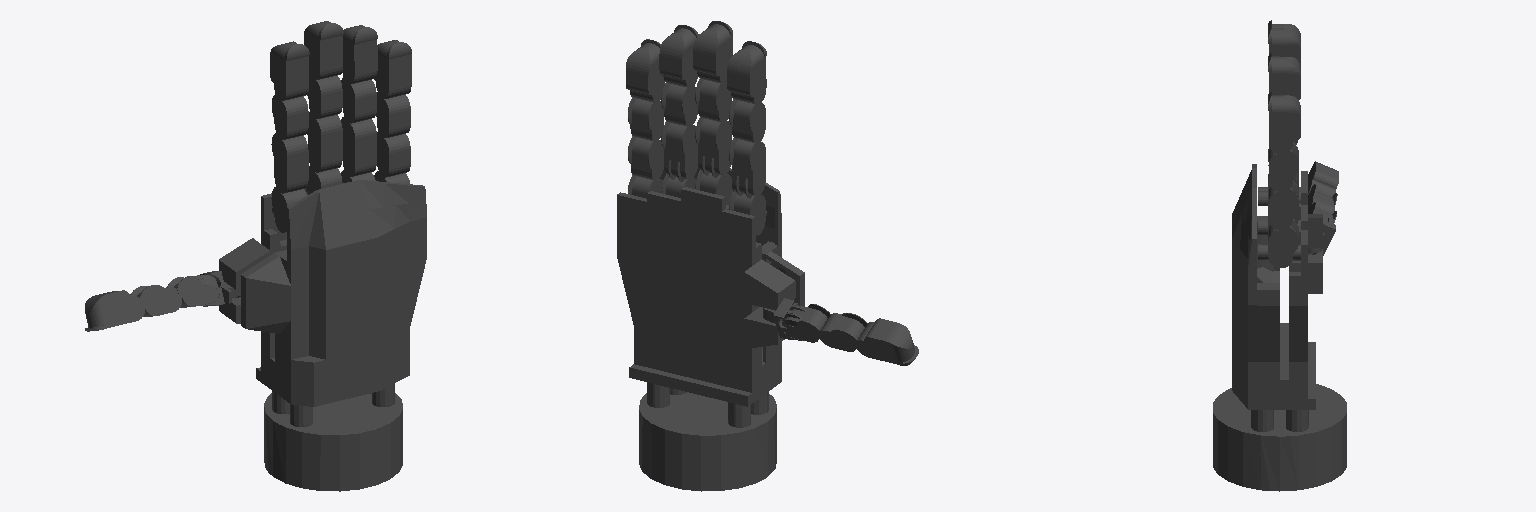
--- Render facts (derived) ---
Views: 3 orthographic renders of the robot side by side, from view 1: azimuth 30°, elevation 25°; view 2: azimuth 150°, elevation 25°; view 3: azimuth 270°, elevation 25°.
Model qbhand with 38 links and 37 joints (34 revolute, 3 fixed), rooted at root_link, posed every joint at zero.
Links seen in each view (by area): view 1: qbhand_palm_link, qbhand_base_link, qbhand_index_distal_link, qbhand_middle_distal_link, qbhand_ring_distal_link, qbhand_little_distal_link, qbhand_thumb_distal_link, qbhand_index_proximal_link, qbhand_middle_proximal_link, qbhand_ring_proximal_link, qbhand_thumb_knuckle_link, qbhand_index_middle_link (+7 smaller); view 2: qbhand_palm_link, qbhand_base_link, qbhand_thumb_distal_link, qbhand_index_distal_link, qbhand_middle_distal_link, qbhand_thumb_knuckle_link, qbhand_ring_distal_link, qbhand_little_distal_link, qbhand_index_proximal_link, qbhand_ring_proximal_link, qbhand_middle_proximal_link, qbhand_thumb_proximal_link (+8 smaller); view 3: qbhand_palm_link, qbhand_base_link, qbhand_little_distal_link, qbhand_little_knuckle_link, qbhand_ring_distal_link, qbhand_little_proximal_link, qbhand_little_middle_link, qbhand_middle_distal_link, qbhand_thumb_distal_link, qbhand_thumb_knuckle_link.
Link boxes in pixels (x1,y1,x2,y2): qbhand_palm_link: (219,180,426,406); qbhand_base_link: (264,383,402,491); qbhand_index_distal_link: (270,41,309,100); qbhand_middle_distal_link: (304,21,343,79); qbhand_ring_distal_link: (342,25,377,84); qbhand_little_distal_link: (374,40,411,98); qbhand_thumb_distal_link: (85,290,144,331); qbhand_index_proximal_link: (271,133,308,193); qbhand_middle_proximal_link: (307,112,342,172); qbhand_ring_proximal_link: (341,116,376,176); qbhand_thumb_knuckle_link: (167,271,240,307); qbhand_index_middle_link: (272,94,308,139); qbhand_palm_link: (617,167,804,406); qbhand_base_link: (639,382,776,491); qbhand_thumb_distal_link: (855,318,918,365); qbhand_index_distal_link: (727,41,766,104); qbhand_middle_distal_link: (693,21,732,83); qbhand_thumb_knuckle_link: (763,298,830,342); qbhand_ring_distal_link: (659,25,698,87); qbhand_little_distal_link: (626,39,664,102); qbhand_index_proximal_link: (729,138,765,198); qbhand_ring_proximal_link: (661,121,697,181); qbhand_middle_proximal_link: (695,117,731,177); qbhand_thumb_proximal_link: (818,313,867,351); qbhand_palm_link: (1232,164,1322,409); qbhand_base_link: (1213,384,1346,491); qbhand_little_distal_link: (1268,92,1300,153); qbhand_little_knuckle_link: (1258,219,1300,267); qbhand_ring_distal_link: (1268,53,1300,99); qbhand_little_proximal_link: (1268,181,1298,229); qbhand_little_middle_link: (1269,143,1298,191); qbhand_middle_distal_link: (1268,25,1300,65); qbhand_thumb_distal_link: (1308,161,1338,196); qbhand_thumb_knuckle_link: (1308,202,1336,255).
Size in the robot's own frame: 0.1798 by 0.0703 by 0.2488 metres.
21 mesh visuals loaded from 7 distinct referenced files (7 binary STL).

robot.urdf — qbhand:
<?xml version="1.0" ?>
<!-- =================================================================================== -->
<!-- |    This document was autogenerated by xacro from qbhand.urdf.xacro              | -->
<!-- |    EDITING THIS FILE BY HAND IS NOT RECOMMENDED                                 | -->
<!-- =================================================================================== -->
<robot name="qbhand">
   <mujoco>
        <compiler
        meshdir="../meshes/qbhand"
        balanceinertia="true"
        discardvisual="false" />
   </mujoco>
  <material name="qbhand/optional">
    <color rgba="0.0 0.5 0.8 1.0"/>
  </material>
  <material name="qbhand/base">
    <color rgba="0.35 0.35 0.35 1.0"/>
  </material>
  <material name="qbhand/palm">
    <color rgba="0.35 0.35 0.35 1.0"/>
  </material>
  <material name="qbhand/knuckle">
    <color rgba="0.35 0.35 0.35 1.0"/>
  </material>
  <material name="qbhand/proximal">
    <color rgba="0.35 0.35 0.35 1.0"/>
  </material>
  <material name="qbhand/middle">
    <color rgba="0.35 0.35 0.35 1.0"/>
  </material>
  <material name="qbhand/distal">
    <color rgba="0.35 0.35 0.35 1.0"/>
  </material>
  <material name="qbhand/default">
    <color rgba="0.35 0.35 0.35 1.0"/>
  </material>
  <link name="root_link"/>
  <joint name="qbhand_base_fixed_joint" type="fixed">
    <origin rpy="0 0 0" xyz="0 0 0"/>
    <parent link="root_link"/>
    <child link="qbhand_base_link"/>
  </joint>
  <link name="qbhand_base_link">
    <inertial>
      <mass value="0.45"/>
      <origin rpy="0 0 0" xyz="0.0030 -0.0449 0.0135"/>
      <inertia ixx="0.00045" ixy="0.0" ixz="0.0" iyy="0.0006" iyz="0.0" izz="0.00025"/>
    </inertial>
    <visual>
      <origin rpy="0 0 0" xyz="0 0 0"/>
      <geometry>
        <mesh filename="../meshes/qbhand/flange_iso_04.stl" scale="0.001 0.001 0.001"/>
      </geometry>
      <material name="qbhand/base"/>
    </visual>
    <collision>
      <origin rpy="0 0 0" xyz="0 0 0"/>
      <geometry>
        <mesh filename="../meshes/qbhand/flange_iso_04.stl" scale="0.001 0.001 0.001"/>
      </geometry>
    </collision>
  </link>
  <joint name="qbhand_palm_fixed_joint" type="fixed">
    <origin rpy="1.57 0 0" xyz="-0.0045 0.0145 0.144"/>
    <parent link="qbhand_base_link"/>
    <child link="qbhand_palm_link"/>
  </joint>
  <link name="qbhand_palm_link">
    <inertial>
      <mass value="0.45"/>
      <origin rpy="0 0 0" xyz="0.0030 -0.0449 0.0135"/>
      <inertia ixx="0.00045" ixy="0.0" ixz="0.0" iyy="0.0006" iyz="0.0" izz="0.00025"/>
    </inertial>
    <visual>
      <origin rpy="0 0 0" xyz="0 0 0"/>
      <geometry>
        <mesh filename="../meshes/qbhand/palm_pinch_r.stl" scale="0.001 0.001 0.001"/>
      </geometry>
      <material name="qbhand/palm"/>
    </visual>
    <collision>
      <origin rpy="0 0 0" xyz="0 0 0"/>
      <geometry>
        <mesh filename="../meshes/qbhand/palm_pinch_r.stl" scale="0.001 0.001 0.001"/>
      </geometry>
    </collision>
  </link>
  <joint name="qbhand_synergy_joint" type="revolute">
    <origin rpy="0 0 0" xyz="0 0 0"/>
    <parent link="qbhand_palm_link"/>
    <child link="qbhand_synergy_tendon_virtual_link"/>
    <axis xyz="0 0 1"/>
    <dynamics damping="0.0" friction="0.0"/>
    <limit effort="100" lower="0.0" upper="1.0" velocity="100"/>
  </joint>
  <transmission name="qbhand_synergy_transmission">
    <type>transmission_interface/qbMoveTransmission</type>
    <joint name="qbhand_synergy_joint">
      <hardwareInterface>hardware_interface/EffortJointInterface</hardwareInterface>
    </joint>
    <actuator name="qbhand_synergy_joint">
      <hardwareInterface>hardware_interface/EffortJointInterface</hardwareInterface>
    </actuator>
  </transmission>
  <link name="qbhand_synergy_tendon_virtual_link">
    <inertial>
      <origin rpy="0 0 0" xyz="0 0 0"/>
      <mass value="1e-4"/>
      <inertia ixx="1e-9" ixy="0.0" ixz="0.0" iyy="1e-9" iyz="0.0" izz="1e-9"/>
    </inertial>
  </link>
  <joint name="qbhand_thumb_knuckle_joint" type="revolute">
    <origin rpy="-1.57 3.14 0.0" xyz="-0.044 -0.0465 -0.002"/>
    <parent link="qbhand_palm_link"/>
    <child link="qbhand_thumb_knuckle_link"/>
    <axis xyz="0 0 -1"/>
    <dynamics damping="0.0" friction="0.0"/>
    <limit effort="100" lower="0.0" upper="1.571" velocity="100"/>
    <mimic joint="qbhand_synergy_joint" multiplier="2.542"/>
  </joint>
  <link name="qbhand_thumb_knuckle_link">
    <inertial>
      <mass value="0.01"/>
      <origin rpy="0 0 0" xyz="1.3071561e-02 -2.7357764e-03 6.4347823e-04"/>
      <inertia ixx="3.5865978e-07" ixy="2.0944224e-07" ixz="-6.8657569e-08" iyy="1.3885564e-06" iyz="3.2170608e-08" izz="1.3571203e-06"/>
    </inertial>
    <visual>
      <origin rpy="0 0 0" xyz="0 0 0"/>
      <geometry>
        <mesh filename="../meshes/qbhand/ph_thumb_r.stl" scale="0.001 0.001 0.001"/>
      </geometry>
      <material name="qbhand/knuckle"/>
    </visual>
    <collision>
      <origin rpy="0 0 0" xyz="0 0 0"/>
      <geometry>
        <mesh filename="../meshes/qbhand/ph_thumb_r_collision.stl" scale="0.001 0.001 0.001"/>
      </geometry>
    </collision>
  </link>
  <joint name="qbhand_thumb_proximal_joint" type="revolute">
    <origin rpy="-1.1415 0.0 0.0" xyz="0.0255 -0.0038 -0.00012"/>
    <parent link="qbhand_thumb_knuckle_link"/>
    <child link="qbhand_thumb_proximal_virtual_link"/>
    <axis xyz="0 0 -1"/>
    <dynamics damping="0.0" friction="0.0"/>
    <limit effort="100" lower="0.0" upper="0.785" velocity="100"/>
    <mimic joint="qbhand_synergy_joint" multiplier="0.785"/>
  </joint>
  <link name="qbhand_thumb_proximal_virtual_link">
    <inertial>
      <origin rpy="0 0 0" xyz="0 0 0"/>
      <mass value="1e-4"/>
      <inertia ixx="1e-9" ixy="0.0" ixz="0.0" iyy="1e-9" iyz="0.0" izz="1e-9"/>
    </inertial>
  </link>
  <joint name="qbhand_thumb_proximal_virtual_joint" type="revolute">
    <origin rpy="0 0 0" xyz="0.013 0 0"/>
    <parent link="qbhand_thumb_proximal_virtual_link"/>
    <child link="qbhand_thumb_proximal_link"/>
    <axis xyz="0 0 -1"/>
    <dynamics damping="0.0" friction="0.0"/>
    <limit effort="100" lower="0.0" upper="0.785" velocity="100"/>
    <mimic joint="qbhand_thumb_proximal_joint" multiplier="1.0"/>
  </joint>
  <link name="qbhand_thumb_proximal_link">
    <inertial>
      <mass value="0.0063"/>
      <origin rpy="0 0 0" xyz="4.7601567e-03 -1.3786947e-03 0.0"/>
      <inertia ixx="1.8024201e-07" ixy="5.756798e-09" ixz="0.0" iyy="2.3516266e-07" iyz="0.0" izz="2.691504e-07"/>
    </inertial>
    <visual>
      <origin rpy="0 0 0" xyz="0 0 0"/>
      <geometry>
        <mesh filename="../meshes/qbhand/ph_short.stl" scale="0.001 0.001 0.001"/>
      </geometry>
      <material name="qbhand/proximal"/>
    </visual>
    <collision>
      <origin rpy="0 0 0" xyz="0 0 0"/>
      <geometry>
        <mesh filename="../meshes/qbhand/ph_short_collision.stl" scale="0.001 0.001 0.001"/>
      </geometry>
    </collision>
  </link>
  <joint name="qbhand_thumb_distal_joint" type="revolute">
    <origin rpy="0 0 0" xyz="0.009 0 0"/>
    <parent link="qbhand_thumb_proximal_link"/>
    <child link="qbhand_thumb_distal_virtual_link"/>
    <axis xyz="0 0 -1"/>
    <dynamics damping="0.0" friction="0.0"/>
    <limit effort="100" lower="0.0" upper="0.785" velocity="100"/>
    <mimic joint="qbhand_synergy_joint" multiplier="0.785"/>
  </joint>
  <link name="qbhand_thumb_distal_virtual_link">
    <inertial>
      <origin rpy="0 0 0" xyz="0 0 0"/>
      <mass value="1e-4"/>
      <inertia ixx="1e-9" ixy="0.0" ixz="0.0" iyy="1e-9" iyz="0.0" izz="1e-9"/>
    </inertial>
  </link>
  <joint name="qbhand_thumb_distal_virtual_joint" type="revolute">
    <origin rpy="0 0 0" xyz="0.013 0 0"/>
    <parent link="qbhand_thumb_distal_virtual_link"/>
    <child link="qbhand_thumb_distal_link"/>
    <axis xyz="0 0 -1"/>
    <dynamics damping="0.0" friction="0.0"/>
    <limit effort="100" lower="0.0" upper="0.785" velocity="100"/>
    <mimic joint="qbhand_thumb_distal_joint" multiplier="1.0"/>
  </joint>
  <link name="qbhand_thumb_distal_link">
    <inertial>
      <mass value="0.009"/>
      <origin rpy="0 0 0" xyz="8.8025467e-03 -1.7219289e-03 0.0"/>
      <inertia ixx="2.6586142e-07" ixy="1.2416847e-08" ixz="0.0" iyy="5.9935767e-07" iyz="0.0" izz="6.6781963e-07"/>
    </inertial>
    <visual>
      <origin rpy="0 0 0" xyz="0 0 0"/>
      <geometry>
        <mesh filename="../meshes/qbhand/ph_distal.stl" scale="0.001 0.001 0.001"/>
      </geometry>
      <material name="qbhand/distal"/>
    </visual>
    <collision>
      <origin rpy="0 0 0" xyz="0 0 0"/>
      <geometry>
        <mesh filename="../meshes/qbhand/ph_distal_collision.stl" scale="0.001 0.001 0.001"/>
      </geometry>
    </collision>
  </link>
  <joint name="qbhand_index_knuckle_joint" type="revolute">
    <origin rpy="0 0 1.57" xyz="-0.02 -0.007 0.014"/>
    <parent link="qbhand_palm_link"/>
    <child link="qbhand_index_knuckle_link"/>
    <axis xyz="0 0 -1"/>
    <dynamics damping="0.0" friction="0.0"/>
    <limit effort="100" lower="-0.524" upper="0.524" velocity="100"/>
    <mimic joint="qbhand_synergy_joint" multiplier="-0.2"/>
  </joint>
  <link name="qbhand_index_knuckle_link">
    <inertial>
      <mass value="0.0095"/>
      <origin rpy="0 0 0" xyz="4.2753603e-04  0.0 -1.4321738e-03"/>
      <inertia ixx="6.4337303e-07" ixy="0.0" ixz="-3.9373913e-08" iyy="1.1253771e-06" iyz="0.0" izz="7.2336948e-07"/>
    </inertial>
    <visual>
      <origin rpy="0 0 0" xyz="0 0 0"/>
      <geometry>
        <mesh filename="../meshes/qbhand/ph_knuckle.stl" scale="0.001 0.001 0.001"/>
      </geometry>
      <material name="qbhand/knuckle"/>
    </visual>
    <collision>
      <origin rpy="0 0 0" xyz="0 0 0"/>
      <geometry>
        <mesh filename="../meshes/qbhand/ph_knuckle_collision.stl" scale="0.001 0.001 0.001"/>
      </geometry>
    </collision>
  </link>
  <joint name="qbhand_index_proximal_joint" type="revolute">
    <origin rpy="1.57 0 0" xyz="0.009 0 0"/>
    <parent link="qbhand_index_knuckle_link"/>
    <child link="qbhand_index_proximal_virtual_link"/>
    <axis xyz="0 0 -1"/>
    <dynamics damping="0.0" friction="0.0"/>
    <limit effort="100" lower="0.0" upper="0.785" velocity="100"/>
    <mimic joint="qbhand_synergy_joint" multiplier="0.785"/>
  </joint>
  <link name="qbhand_index_proximal_virtual_link">
    <inertial>
      <origin rpy="0 0 0" xyz="0 0 0"/>
      <mass value="1e-4"/>
      <inertia ixx="1e-9" ixy="0.0" ixz="0.0" iyy="1e-9" iyz="0.0" izz="1e-9"/>
    </inertial>
  </link>
  <joint name="qbhand_index_proximal_virtual_joint" type="revolute">
    <origin rpy="0 0 0" xyz="0.013 0 0"/>
    <parent link="qbhand_index_proximal_virtual_link"/>
    <child link="qbhand_index_proximal_link"/>
    <axis xyz="0 0 -1"/>
    <dynamics damping="0.0" friction="0.0"/>
    <limit effort="100" lower="0.0" upper="0.785" velocity="100"/>
    <mimic joint="qbhand_index_proximal_joint" multiplier="1.0"/>
  </joint>
  <link name="qbhand_index_proximal_link">
    <inertial>
      <mass value="0.0082"/>
      <origin rpy="0 0 0" xyz="8.7707437e-03 -1.7863138e-03 0.0"/>
      <inertia ixx="2.2722068e-07" ixy="1.1586053e-08" ixz="0.0" iyy="5.5947233e-07" iyz="0.0" izz="5.9562195e-07"/>
    </inertial>
    <visual>
      <origin rpy="0 0 0" xyz="0 0 0"/>
      <geometry>
        <mesh filename="../meshes/qbhand/ph_medium.stl" scale="0.001 0.001 0.001"/>
      </geometry>
      <material name="qbhand/proximal"/>
    </visual>
    <collision>
      <origin rpy="0 0 0" xyz="0 0 0"/>
      <geometry>
        <mesh filename="../meshes/qbhand/ph_medium_collision.stl" scale="0.001 0.001 0.001"/>
      </geometry>
    </collision>
  </link>
  <joint name="qbhand_index_middle_joint" type="revolute">
    <origin rpy="0 0 0" xyz="0.017 0 0"/>
    <parent link="qbhand_index_proximal_link"/>
    <child link="qbhand_index_middle_virtual_link"/>
    <axis xyz="0 0 -1"/>
    <dynamics damping="0.0" friction="0.0"/>
    <limit effort="100" lower="0.0" upper="0.785" velocity="100"/>
    <mimic joint="qbhand_synergy_joint" multiplier="0.785"/>
  </joint>
  <link name="qbhand_index_middle_virtual_link">
    <inertial>
      <origin rpy="0 0 0" xyz="0 0 0"/>
      <mass value="1e-4"/>
      <inertia ixx="1e-9" ixy="0.0" ixz="0.0" iyy="1e-9" iyz="0.0" izz="1e-9"/>
    </inertial>
  </link>
  <joint name="qbhand_index_middle_virtual_joint" type="revolute">
    <origin rpy="0 0 0" xyz="0.013 0 0"/>
    <parent link="qbhand_index_middle_virtual_link"/>
    <child link="qbhand_index_middle_link"/>
    <axis xyz="0 0 -1"/>
    <dynamics damping="0.0" friction="0.0"/>
    <limit effort="100" lower="0.0" upper="0.785" velocity="100"/>
    <mimic joint="qbhand_index_middle_joint" multiplier="1.0"/>
  </joint>
  <link name="qbhand_index_middle_link">
    <inertial>
      <mass value="0.0063"/>
      <origin rpy="0 0 0" xyz="4.7601567e-03 -1.3786947e-03 0.0"/>
      <inertia ixx="1.8024201e-07" ixy="5.756798e-09" ixz="0.0" iyy="2.3516266e-07" iyz="0.0" izz="2.691504e-07"/>
    </inertial>
    <visual>
      <origin rpy="0 0 0" xyz="0 0 0"/>
      <geometry>
        <mesh filename="../meshes/qbhand/ph_short.stl" scale="0.001 0.001 0.001"/>
      </geometry>
      <material name="qbhand/middle"/>
    </visual>
    <collision>
      <origin rpy="0 0 0" xyz="0 0 0"/>
      <geometry>
        <mesh filename="../meshes/qbhand/ph_short_collision.stl" scale="0.001 0.001 0.001"/>
      </geometry>
    </collision>
  </link>
  <joint name="qbhand_index_distal_joint" type="revolute">
    <origin rpy="0 0 0" xyz="0.009 0 0"/>
    <parent link="qbhand_index_middle_link"/>
    <child link="qbhand_index_distal_virtual_link"/>
    <axis xyz="0 0 -1"/>
    <dynamics damping="0.0" friction="0.0"/>
    <limit effort="100" lower="0.0" upper="0.785" velocity="100"/>
    <mimic joint="qbhand_synergy_joint" multiplier="0.785"/>
  </joint>
  <link name="qbhand_index_distal_virtual_link">
    <inertial>
      <origin rpy="0 0 0" xyz="0 0 0"/>
      <mass value="1e-4"/>
      <inertia ixx="1e-9" ixy="0.0" ixz="0.0" iyy="1e-9" iyz="0.0" izz="1e-9"/>
    </inertial>
  </link>
  <joint name="qbhand_index_distal_virtual_joint" type="revolute">
    <origin rpy="0 0 0" xyz="0.013 0 0"/>
    <parent link="qbhand_index_distal_virtual_link"/>
    <child link="qbhand_index_distal_link"/>
    <axis xyz="0 0 -1"/>
    <dynamics damping="0.0" friction="0.0"/>
    <limit effort="100" lower="0.0" upper="0.785" velocity="100"/>
    <mimic joint="qbhand_index_distal_joint" multiplier="1.0"/>
  </joint>
  <link name="qbhand_index_distal_link">
    <inertial>
      <mass value="0.009"/>
      <origin rpy="0 0 0" xyz="8.8025467e-03 -1.7219289e-03 0.0"/>
      <inertia ixx="2.6586142e-07" ixy="1.2416847e-08" ixz="0.0" iyy="5.9935767e-07" iyz="0.0" izz="6.6781963e-07"/>
    </inertial>
    <visual>
      <origin rpy="0 0 0" xyz="0 0 0"/>
      <geometry>
        <mesh filename="../meshes/qbhand/ph_distal.stl" scale="0.001 0.001 0.001"/>
      </geometry>
      <material name="qbhand/distal"/>
    </visual>
    <collision>
      <origin rpy="0 0 0" xyz="0 0 0"/>
      <geometry>
        <mesh filename="../meshes/qbhand/ph_distal_collision.stl" scale="0.001 0.001 0.001"/>
      </geometry>
    </collision>
  </link>
  <joint name="qbhand_middle_knuckle_joint" type="revolute">
    <origin rpy="0 0 1.57" xyz="0 0 0.014"/>
    <parent link="qbhand_palm_link"/>
    <child link="qbhand_middle_knuckle_link"/>
    <axis xyz="0 0 -1"/>
    <dynamics damping="0.0" friction="0.0"/>
    <limit effort="100" lower="-0.524" upper="0.524" velocity="100"/>
    <mimic joint="qbhand_synergy_joint" multiplier="0.0"/>
  </joint>
  <link name="qbhand_middle_knuckle_link">
    <inertial>
      <mass value="0.0095"/>
      <origin rpy="0 0 0" xyz="4.2753603e-04  0.0 -1.4321738e-03"/>
      <inertia ixx="6.4337303e-07" ixy="0.0" ixz="-3.9373913e-08" iyy="1.1253771e-06" iyz="0.0" izz="7.2336948e-07"/>
    </inertial>
    <visual>
      <origin rpy="0 0 0" xyz="0 0 0"/>
      <geometry>
        <mesh filename="../meshes/qbhand/ph_knuckle.stl" scale="0.001 0.001 0.001"/>
      </geometry>
      <material name="qbhand/knuckle"/>
    </visual>
    <collision>
      <origin rpy="0 0 0" xyz="0 0 0"/>
      <geometry>
        <mesh filename="../meshes/qbhand/ph_knuckle_collision.stl" scale="0.001 0.001 0.001"/>
      </geometry>
    </collision>
  </link>
  <joint name="qbhand_middle_proximal_joint" type="revolute">
    <origin rpy="1.57 0 0" xyz="0.009 0 0"/>
    <parent link="qbhand_middle_knuckle_link"/>
    <child link="qbhand_middle_proximal_virtual_link"/>
    <axis xyz="0 0 -1"/>
    <dynamics damping="0.0" friction="0.0"/>
    <limit effort="100" lower="0.0" upper="0.785" velocity="100"/>
    <mimic joint="qbhand_synergy_joint" multiplier="0.785"/>
  </joint>
  <link name="qbhand_middle_proximal_virtual_link">
    <inertial>
      <origin rpy="0 0 0" xyz="0 0 0"/>
      <mass value="1e-4"/>
      <inertia ixx="1e-9" ixy="0.0" ixz="0.0" iyy="1e-9" iyz="0.0" izz="1e-9"/>
    </inertial>
  </link>
  <joint name="qbhand_middle_proximal_virtual_joint" type="revolute">
    <origin rpy="0 0 0" xyz="0.013 0 0"/>
    <parent link="qbhand_middle_proximal_virtual_link"/>
    <child link="qbhand_middle_proximal_link"/>
    <axis xyz="0 0 -1"/>
    <dynamics damping="0.0" friction="0.0"/>
    <limit effort="100" lower="0.0" upper="0.785" velocity="100"/>
    <mimic joint="qbhand_middle_proximal_joint" multiplier="1.0"/>
  </joint>
  <link name="qbhand_middle_proximal_link">
    <inertial>
      <mass value="0.0082"/>
      <origin rpy="0 0 0" xyz="8.7707437e-03 -1.7863138e-03 0.0"/>
      <inertia ixx="2.2722068e-07" ixy="1.1586053e-08" ixz="0.0" iyy="5.5947233e-07" iyz="0.0" izz="5.9562195e-07"/>
    </inertial>
    <visual>
      <origin rpy="0 0 0" xyz="0 0 0"/>
      <geometry>
        <mesh filename="../meshes/qbhand/ph_medium.stl" scale="0.001 0.001 0.001"/>
      </geometry>
      <material name="qbhand/proximal"/>
    </visual>
    <collision>
      <origin rpy="0 0 0" xyz="0 0 0"/>
      <geometry>
        <mesh filename="../meshes/qbhand/ph_medium_collision.stl" scale="0.001 0.001 0.001"/>
      </geometry>
    </collision>
  </link>
  <joint name="qbhand_middle_middle_joint" type="revolute">
    <origin rpy="0 0 0" xyz="0.017 0 0"/>
    <parent link="qbhand_middle_proximal_link"/>
    <child link="qbhand_middle_middle_virtual_link"/>
    <axis xyz="0 0 -1"/>
    <dynamics damping="0.0" friction="0.0"/>
    <limit effort="100" lower="0.0" upper="0.785" velocity="100"/>
    <mimic joint="qbhand_synergy_joint" multiplier="0.785"/>
  </joint>
  <link name="qbhand_middle_middle_virtual_link">
    <inertial>
      <origin rpy="0 0 0" xyz="0 0 0"/>
      <mass value="1e-4"/>
      <inertia ixx="1e-9" ixy="0.0" ixz="0.0" iyy="1e-9" iyz="0.0" izz="1e-9"/>
    </inertial>
  </link>
  <joint name="qbhand_middle_middle_virtual_joint" type="revolute">
    <origin rpy="0 0 0" xyz="0.013 0 0"/>
    <parent link="qbhand_middle_middle_virtual_link"/>
    <child link="qbhand_middle_middle_link"/>
    <axis xyz="0 0 -1"/>
    <dynamics damping="0.0" friction="0.0"/>
    <limit effort="100" lower="0.0" upper="0.785" velocity="100"/>
    <mimic joint="qbhand_middle_middle_joint" multiplier="1.0"/>
  </joint>
  <link name="qbhand_middle_middle_link">
    <inertial>
      <mass value="0.0063"/>
      <origin rpy="0 0 0" xyz="4.7601567e-03 -1.3786947e-03 0.0"/>
      <inertia ixx="1.8024201e-07" ixy="5.756798e-09" ixz="0.0" iyy="2.3516266e-07" iyz="0.0" izz="2.691504e-07"/>
    </inertial>
    <visual>
      <origin rpy="0 0 0" xyz="0 0 0"/>
      <geometry>
        <mesh filename="../meshes/qbhand/ph_short.stl" scale="0.001 0.001 0.001"/>
      </geometry>
      <material name="qbhand/middle"/>
    </visual>
    <collision>
      <origin rpy="0 0 0" xyz="0 0 0"/>
      <geometry>
        <mesh filename="../meshes/qbhand/ph_short_collision.stl" scale="0.001 0.001 0.001"/>
      </geometry>
    </collision>
  </link>
  <joint name="qbhand_middle_distal_joint" type="revolute">
    <origin rpy="0 0 0" xyz="0.009 0 0"/>
    <parent link="qbhand_middle_middle_link"/>
    <child link="qbhand_middle_distal_virtual_link"/>
    <axis xyz="0 0 -1"/>
    <dynamics damping="0.0" friction="0.0"/>
    <limit effort="100" lower="0.0" upper="0.785" velocity="100"/>
    <mimic joint="qbhand_synergy_joint" multiplier="0.785"/>
  </joint>
  <link name="qbhand_middle_distal_virtual_link">
    <inertial>
      <origin rpy="0 0 0" xyz="0 0 0"/>
      <mass value="1e-4"/>
      <inertia ixx="1e-9" ixy="0.0" ixz="0.0" iyy="1e-9" iyz="0.0" izz="1e-9"/>
    </inertial>
  </link>
  <joint name="qbhand_middle_distal_virtual_joint" type="revolute">
    <origin rpy="0 0 0" xyz="0.013 0 0"/>
    <parent link="qbhand_middle_distal_virtual_link"/>
    <child link="qbhand_middle_distal_link"/>
    <axis xyz="0 0 -1"/>
    <dynamics damping="0.0" friction="0.0"/>
    <limit effort="100" lower="0.0" upper="0.785" velocity="100"/>
    <mimic joint="qbhand_middle_distal_joint" multiplier="1.0"/>
  </joint>
  <link name="qbhand_middle_distal_link">
    <inertial>
      <mass value="0.009"/>
      <origin rpy="0 0 0" xyz="8.8025467e-03 -1.7219289e-03 0.0"/>
      <inertia ixx="2.6586142e-07" ixy="1.2416847e-08" ixz="0.0" iyy="5.9935767e-07" iyz="0.0" izz="6.6781963e-07"/>
    </inertial>
    <visual>
      <origin rpy="0 0 0" xyz="0 0 0"/>
      <geometry>
        <mesh filename="../meshes/qbhand/ph_distal.stl" scale="0.001 0.001 0.001"/>
      </geometry>
      <material name="qbhand/distal"/>
    </visual>
    <collision>
      <origin rpy="0 0 0" xyz="0 0 0"/>
      <geometry>
        <mesh filename="../meshes/qbhand/ph_distal_collision.stl" scale="0.001 0.001 0.001"/>
      </geometry>
    </collision>
  </link>
  <joint name="qbhand_ring_knuckle_joint" type="revolute">
    <origin rpy="0 0 1.57" xyz="0.02 -0.007 0.014"/>
    <parent link="qbhand_palm_link"/>
    <child link="qbhand_ring_knuckle_link"/>
    <axis xyz="0 0 -1"/>
    <dynamics damping="0.0" friction="0.0"/>
    <limit effort="100" lower="-0.524" upper="0.524" velocity="100"/>
    <mimic joint="qbhand_synergy_joint" multiplier="0.2"/>
  </joint>
  <link name="qbhand_ring_knuckle_link">
    <inertial>
      <mass value="0.0095"/>
      <origin rpy="0 0 0" xyz="4.2753603e-04  0.0 -1.4321738e-03"/>
      <inertia ixx="6.4337303e-07" ixy="0.0" ixz="-3.9373913e-08" iyy="1.1253771e-06" iyz="0.0" izz="7.2336948e-07"/>
    </inertial>
    <visual>
      <origin rpy="0 0 0" xyz="0 0 0"/>
      <geometry>
        <mesh filename="../meshes/qbhand/ph_knuckle.stl" scale="0.001 0.001 0.001"/>
      </geometry>
      <material name="qbhand/knuckle"/>
    </visual>
    <collision>
      <origin rpy="0 0 0" xyz="0 0 0"/>
      <geometry>
        <mesh filename="../meshes/qbhand/ph_knuckle_collision.stl" scale="0.001 0.001 0.001"/>
      </geometry>
    </collision>
  </link>
  <joint name="qbhand_ring_proximal_joint" type="revolute">
    <origin rpy="1.57 0 0" xyz="0.009 0 0"/>
    <parent link="qbhand_ring_knuckle_link"/>
    <child link="qbhand_ring_proximal_virtual_link"/>
    <axis xyz="0 0 -1"/>
    <dynamics damping="0.0" friction="0.0"/>
    <limit effort="100" lower="0.0" upper="0.785" velocity="100"/>
    <mimic joint="qbhand_synergy_joint" multiplier="0.785"/>
  </joint>
  <link name="qbhand_ring_proximal_virtual_link">
    <inertial>
      <origin rpy="0 0 0" xyz="0 0 0"/>
      <mass value="1e-4"/>
      <inertia ixx="1e-9" ixy="0.0" ixz="0.0" iyy="1e-9" iyz="0.0" izz="1e-9"/>
    </inertial>
  </link>
  <joint name="qbhand_ring_proximal_virtual_joint" type="revolute">
    <origin rpy="0 0 0" xyz="0.013 0 0"/>
    <parent link="qbhand_ring_proximal_virtual_link"/>
    <child link="qbhand_ring_proximal_link"/>
    <axis xyz="0 0 -1"/>
    <dynamics damping="0.0" friction="0.0"/>
    <limit effort="100" lower="0.0" upper="0.785" velocity="100"/>
    <mimic joint="qbhand_ring_proximal_joint" multiplier="1.0"/>
  </joint>
  <link name="qbhand_ring_proximal_link">
    <inertial>
      <mass value="0.0082"/>
      <origin rpy="0 0 0" xyz="8.7707437e-03 -1.7863138e-03 0.0"/>
      <inertia ixx="2.2722068e-07" ixy="1.1586053e-08" ixz="0.0" iyy="5.5947233e-07" iyz="0.0" izz="5.9562195e-07"/>
    </inertial>
    <visual>
      <origin rpy="0 0 0" xyz="0 0 0"/>
      <geometry>
        <mesh filename="../meshes/qbhand/ph_medium.stl" scale="0.001 0.001 0.001"/>
      </geometry>
      <material name="qbhand/proximal"/>
    </visual>
    <collision>
      <origin rpy="0 0 0" xyz="0 0 0"/>
      <geometry>
        <mesh filename="../meshes/qbhand/ph_medium_collision.stl" scale="0.001 0.001 0.001"/>
      </geometry>
    </collision>
  </link>
  <joint name="qbhand_ring_middle_joint" type="revolute">
    <origin rpy="0 0 0" xyz="0.017 0 0"/>
    <parent link="qbhand_ring_proximal_link"/>
    <child link="qbhand_ring_middle_virtual_link"/>
    <axis xyz="0 0 -1"/>
    <dynamics damping="0.0" friction="0.0"/>
    <limit effort="100" lower="0.0" upper="0.785" velocity="100"/>
    <mimic joint="qbhand_synergy_joint" multiplier="0.785"/>
  </joint>
  <link name="qbhand_ring_middle_virtual_link">
    <inertial>
      <origin rpy="0 0 0" xyz="0 0 0"/>
      <mass value="1e-4"/>
      <inertia ixx="1e-9" ixy="0.0" ixz="0.0" iyy="1e-9" iyz="0.0" izz="1e-9"/>
    </inertial>
  </link>
  <joint name="qbhand_ring_middle_virtual_joint" type="revolute">
    <origin rpy="0 0 0" xyz="0.013 0 0"/>
    <parent link="qbhand_ring_middle_virtual_link"/>
    <child link="qbhand_ring_middle_link"/>
    <axis xyz="0 0 -1"/>
    <dynamics damping="0.0" friction="0.0"/>
    <limit effort="100" lower="0.0" upper="0.785" velocity="100"/>
    <mimic joint="qbhand_ring_middle_joint" multiplier="1.0"/>
  </joint>
  <link name="qbhand_ring_middle_link">
    <inertial>
      <mass value="0.0063"/>
      <origin rpy="0 0 0" xyz="4.7601567e-03 -1.3786947e-03 0.0"/>
      <inertia ixx="1.8024201e-07" ixy="5.756798e-09" ixz="0.0" iyy="2.3516266e-07" iyz="0.0" izz="2.691504e-07"/>
    </inertial>
    <visual>
      <origin rpy="0 0 0" xyz="0 0 0"/>
      <geometry>
        <mesh filename="../meshes/qbhand/ph_short.stl" scale="0.001 0.001 0.001"/>
      </geometry>
      <material name="qbhand/middle"/>
    </visual>
    <collision>
      <origin rpy="0 0 0" xyz="0 0 0"/>
      <geometry>
        <mesh filename="../meshes/qbhand/ph_short_collision.stl" scale="0.001 0.001 0.001"/>
      </geometry>
    </collision>
  </link>
  <joint name="qbhand_ring_distal_joint" type="revolute">
    <origin rpy="0 0 0" xyz="0.009 0 0"/>
    <parent link="qbhand_ring_middle_link"/>
    <child link="qbhand_ring_distal_virtual_link"/>
    <axis xyz="0 0 -1"/>
    <dynamics damping="0.0" friction="0.0"/>
    <limit effort="100" lower="0.0" upper="0.785" velocity="100"/>
    <mimic joint="qbhand_synergy_joint" multiplier="0.785"/>
  </joint>
  <link name="qbhand_ring_distal_virtual_link">
    <inertial>
      <origin rpy="0 0 0" xyz="0 0 0"/>
      <mass value="1e-4"/>
      <inertia ixx="1e-9" ixy="0.0" ixz="0.0" iyy="1e-9" iyz="0.0" izz="1e-9"/>
    </inertial>
  </link>
  <joint name="qbhand_ring_distal_virtual_joint" type="revolute">
    <origin rpy="0 0 0" xyz="0.013 0 0"/>
    <parent link="qbhand_ring_distal_virtual_link"/>
    <child link="qbhand_ring_distal_link"/>
    <axis xyz="0 0 -1"/>
    <dynamics damping="0.0" friction="0.0"/>
    <limit effort="100" lower="0.0" upper="0.785" velocity="100"/>
    <mimic joint="qbhand_ring_distal_joint" multiplier="1.0"/>
  </joint>
  <link name="qbhand_ring_distal_link">
    <inertial>
      <mass value="0.009"/>
      <origin rpy="0 0 0" xyz="8.8025467e-03 -1.7219289e-03 0.0"/>
      <inertia ixx="2.6586142e-07" ixy="1.2416847e-08" ixz="0.0" iyy="5.9935767e-07" iyz="0.0" izz="6.6781963e-07"/>
    </inertial>
    <visual>
      <origin rpy="0 0 0" xyz="0 0 0"/>
      <geometry>
        <mesh filename="../meshes/qbhand/ph_distal.stl" scale="0.001 0.001 0.001"/>
      </geometry>
      <material name="qbhand/distal"/>
    </visual>
    <collision>
      <origin rpy="0 0 0" xyz="0 0 0"/>
      <geometry>
        <mesh filename="../meshes/qbhand/ph_distal_collision.stl" scale="0.001 0.001 0.001"/>
      </geometry>
    </collision>
  </link>
  <joint name="qbhand_little_knuckle_joint" type="revolute">
    <origin rpy="0 0 1.57" xyz="0.04 -0.012 0.014"/>
    <parent link="qbhand_palm_link"/>
    <child link="qbhand_little_knuckle_link"/>
    <axis xyz="0 0 -1"/>
    <dynamics damping="0.0" friction="0.0"/>
    <limit effort="100" lower="-0.524" upper="0.524" velocity="100"/>
    <mimic joint="qbhand_synergy_joint" multiplier="0.4"/>
  </joint>
  <link name="qbhand_little_knuckle_link">
    <inertial>
      <mass value="0.0095"/>
      <origin rpy="0 0 0" xyz="4.2753603e-04  0.0 -1.4321738e-03"/>
      <inertia ixx="6.4337303e-07" ixy="0.0" ixz="-3.9373913e-08" iyy="1.1253771e-06" iyz="0.0" izz="7.2336948e-07"/>
    </inertial>
    <visual>
      <origin rpy="0 0 0" xyz="0 0 0"/>
      <geometry>
        <mesh filename="../meshes/qbhand/ph_knuckle.stl" scale="0.001 0.001 0.001"/>
      </geometry>
      <material name="qbhand/knuckle"/>
    </visual>
    <collision>
      <origin rpy="0 0 0" xyz="0 0 0"/>
      <geometry>
        <mesh filename="../meshes/qbhand/ph_knuckle_collision.stl" scale="0.001 0.001 0.001"/>
      </geometry>
    </collision>
  </link>
  <joint name="qbhand_little_proximal_joint" type="revolute">
    <origin rpy="1.57 0 0" xyz="0.009 0 0"/>
    <parent link="qbhand_little_knuckle_link"/>
    <child link="qbhand_little_proximal_virtual_link"/>
    <axis xyz="0 0 -1"/>
    <dynamics damping="0.0" friction="0.0"/>
    <limit effort="100" lower="0.0" upper="0.785" velocity="100"/>
    <mimic joint="qbhand_synergy_joint" multiplier="0.785"/>
  </joint>
  <link name="qbhand_little_proximal_virtual_link">
    <inertial>
      <origin rpy="0 0 0" xyz="0 0 0"/>
      <mass value="1e-4"/>
      <inertia ixx="1e-9" ixy="0.0" ixz="0.0" iyy="1e-9" iyz="0.0" izz="1e-9"/>
    </inertial>
  </link>
  <joint name="qbhand_little_proximal_virtual_joint" type="revolute">
    <origin rpy="0 0 0" xyz="0.013 0 0"/>
    <parent link="qbhand_little_proximal_virtual_link"/>
    <child link="qbhand_little_proximal_link"/>
    <axis xyz="0 0 -1"/>
    <dynamics damping="0.0" friction="0.0"/>
    <limit effort="100" lower="0.0" upper="0.785" velocity="100"/>
    <mimic joint="qbhand_little_proximal_joint" multiplier="1.0"/>
  </joint>
  <link name="qbhand_little_proximal_link">
    <inertial>
      <mass value="0.0063"/>
      <origin rpy="0 0 0" xyz="4.7601567e-03 -1.3786947e-03 0.0"/>
      <inertia ixx="1.8024201e-07" ixy="5.756798e-09" ixz="0.0" iyy="2.3516266e-07" iyz="0.0" izz="2.691504e-07"/>
    </inertial>
    <visual>
      <origin rpy="0 0 0" xyz="0 0 0"/>
      <geometry>
        <mesh filename="../meshes/qbhand/ph_short.stl" scale="0.001 0.001 0.001"/>
      </geometry>
      <material name="qbhand/proximal"/>
    </visual>
    <collision>
      <origin rpy="0 0 0" xyz="0 0 0"/>
      <geometry>
        <mesh filename="../meshes/qbhand/ph_short_collision.stl" scale="0.001 0.001 0.001"/>
      </geometry>
    </collision>
  </link>
  <joint name="qbhand_little_middle_joint" type="revolute">
    <origin rpy="0 0 0" xyz="0.009 0 0"/>
    <parent link="qbhand_little_proximal_link"/>
    <child link="qbhand_little_middle_virtual_link"/>
    <axis xyz="0 0 -1"/>
    <dynamics damping="0.0" friction="0.0"/>
    <limit effort="100" lower="0.0" upper="0.785" velocity="100"/>
    <mimic joint="qbhand_synergy_joint" multiplier="0.785"/>
  </joint>
  <link name="qbhand_little_middle_virtual_link">
    <inertial>
      <origin rpy="0 0 0" xyz="0 0 0"/>
      <mass value="1e-4"/>
      <inertia ixx="1e-9" ixy="0.0" ixz="0.0" iyy="1e-9" iyz="0.0" izz="1e-9"/>
    </inertial>
  </link>
  <joint name="qbhand_little_middle_virtual_joint" type="revolute">
    <origin rpy="0 0 0" xyz="0.013 0 0"/>
    <parent link="qbhand_little_middle_virtual_link"/>
    <child link="qbhand_little_middle_link"/>
    <axis xyz="0 0 -1"/>
    <dynamics damping="0.0" friction="0.0"/>
    <limit effort="100" lower="0.0" upper="0.785" velocity="100"/>
    <mimic joint="qbhand_little_middle_joint" multiplier="1.0"/>
  </joint>
  <link name="qbhand_little_middle_link">
    <inertial>
      <mass value="0.0063"/>
      <origin rpy="0 0 0" xyz="4.7601567e-03 -1.3786947e-03 0.0"/>
      <inertia ixx="1.8024201e-07" ixy="5.756798e-09" ixz="0.0" iyy="2.3516266e-07" iyz="0.0" izz="2.691504e-07"/>
    </inertial>
    <visual>
      <origin rpy="0 0 0" xyz="0 0 0"/>
      <geometry>
        <mesh filename="../meshes/qbhand/ph_short.stl" scale="0.001 0.001 0.001"/>
      </geometry>
      <material name="qbhand/middle"/>
    </visual>
    <collision>
      <origin rpy="0 0 0" xyz="0 0 0"/>
      <geometry>
        <mesh filename="../meshes/qbhand/ph_short_collision.stl" scale="0.001 0.001 0.001"/>
      </geometry>
    </collision>
  </link>
  <joint name="qbhand_little_distal_joint" type="revolute">
    <origin rpy="0 0 0" xyz="0.009 0 0"/>
    <parent link="qbhand_little_middle_link"/>
    <child link="qbhand_little_distal_virtual_link"/>
    <axis xyz="0 0 -1"/>
    <dynamics damping="0.0" friction="0.0"/>
    <limit effort="100" lower="0.0" upper="0.785" velocity="100"/>
    <mimic joint="qbhand_synergy_joint" multiplier="0.785"/>
  </joint>
  <link name="qbhand_little_distal_virtual_link">
    <inertial>
      <origin rpy="0 0 0" xyz="0 0 0"/>
      <mass value="1e-4"/>
      <inertia ixx="1e-9" ixy="0.0" ixz="0.0" iyy="1e-9" iyz="0.0" izz="1e-9"/>
    </inertial>
  </link>
  <joint name="qbhand_little_distal_virtual_joint" type="revolute">
    <origin rpy="0 0 0" xyz="0.013 0 0"/>
    <parent link="qbhand_little_distal_virtual_link"/>
    <child link="qbhand_little_distal_link"/>
    <axis xyz="0 0 -1"/>
    <dynamics damping="0.0" friction="0.0"/>
    <limit effort="100" lower="0.0" upper="0.785" velocity="100"/>
    <mimic joint="qbhand_little_distal_joint" multiplier="1.0"/>
  </joint>
  <link name="qbhand_little_distal_link">
    <inertial>
      <mass value="0.009"/>
      <origin rpy="0 0 0" xyz="8.8025467e-03 -1.7219289e-03 0.0"/>
      <inertia ixx="2.6586142e-07" ixy="1.2416847e-08" ixz="0.0" iyy="5.9935767e-07" iyz="0.0" izz="6.6781963e-07"/>
    </inertial>
    <visual>
      <origin rpy="0 0 0" xyz="0 0 0"/>
      <geometry>
        <mesh filename="../meshes/qbhand/ph_distal.stl" scale="0.001 0.001 0.001"/>
      </geometry>
      <material name="qbhand/distal"/>
    </visual>
    <collision>
      <origin rpy="0 0 0" xyz="0 0 0"/>
      <geometry>
        <mesh filename="../meshes/qbhand/ph_distal_collision.stl" scale="0.001 0.001 0.001"/>
      </geometry>
    </collision>
  </link>
  <joint name="qbhand_end_effector_fixed_joint" type="fixed">
    <origin rpy="-1.57 0 0" xyz="-0.03 0.060 0.142"/>
    <parent link="qbhand_base_link"/>
    <child link="qbhand_end_effector_link"/>
  </joint>
  <link name="qbhand_end_effector_link"/>
</robot>
